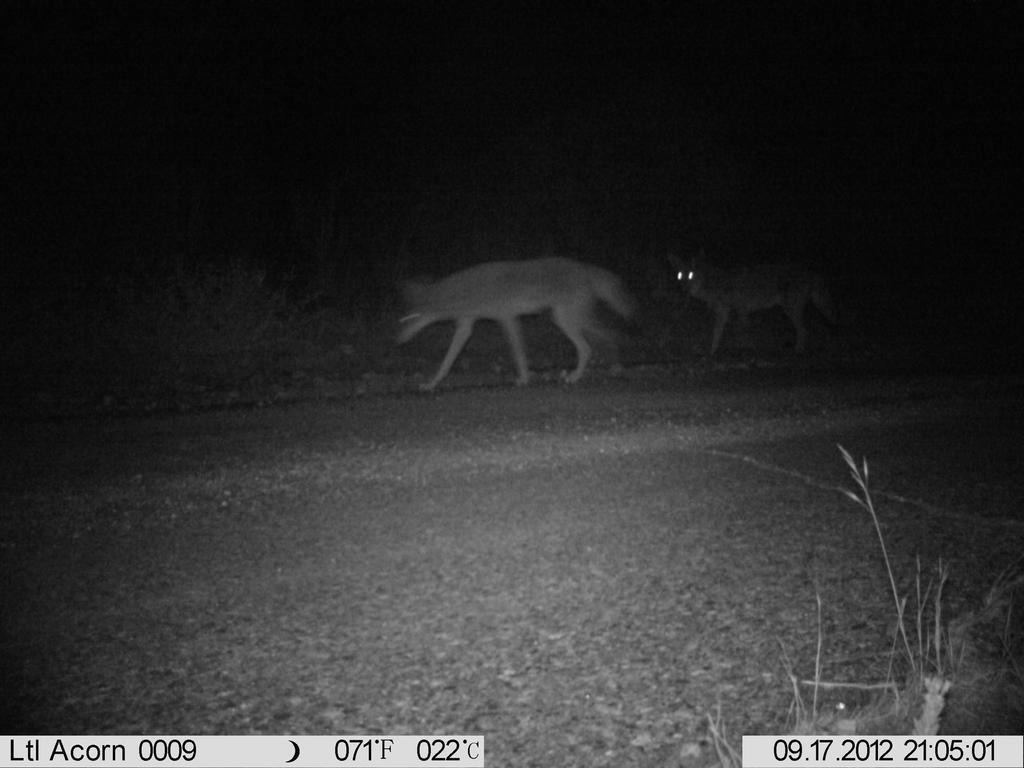coyote: (385, 250, 643, 400), (663, 239, 849, 370)
